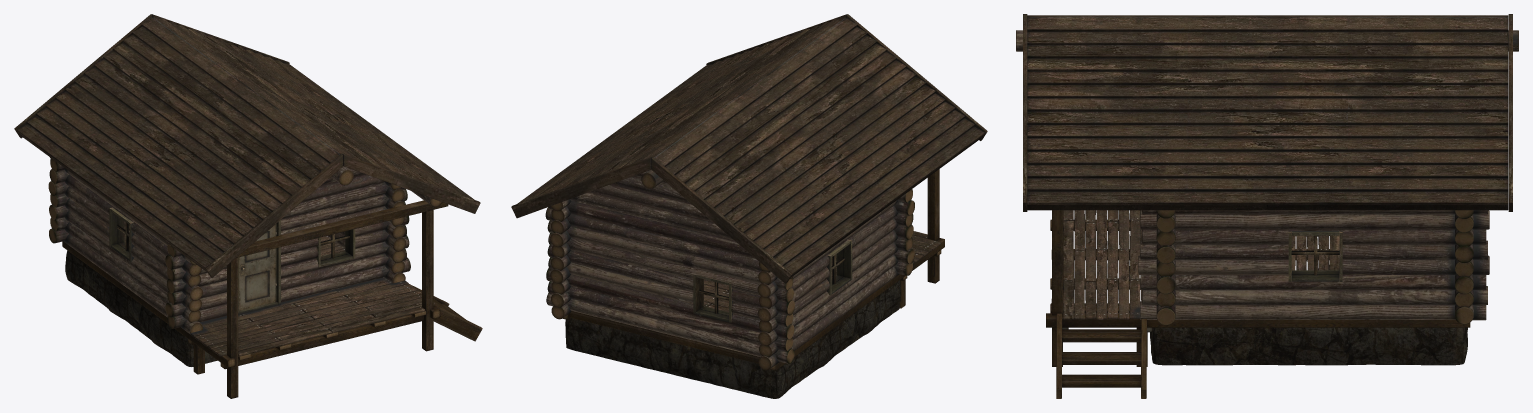
The model's file is cabin.glb.
3 views of the same model, side by side, from view 1: azimuth 30°, elevation 25°; view 2: azimuth 150°, elevation 25°; view 3: azimuth 270°, elevation 25° (orthographic). The views are drawn at different scales.
Parts seen in each view (by area): view 1: Cabin_5, Cabin_Door_3; view 2: Cabin_5; view 3: Cabin_5.
Boxes of the visible parts, bbox=[...] form: Cabin_5: bbox=[14, 14, 482, 398]; Cabin_Door_3: bbox=[239, 224, 276, 310]; Cabin_5: bbox=[511, 14, 987, 398]; Cabin_5: bbox=[1016, 14, 1518, 398].
Size of the model in its own units: 7.7 by 5.89 by 9.1.
8 materials, 7 textured.
